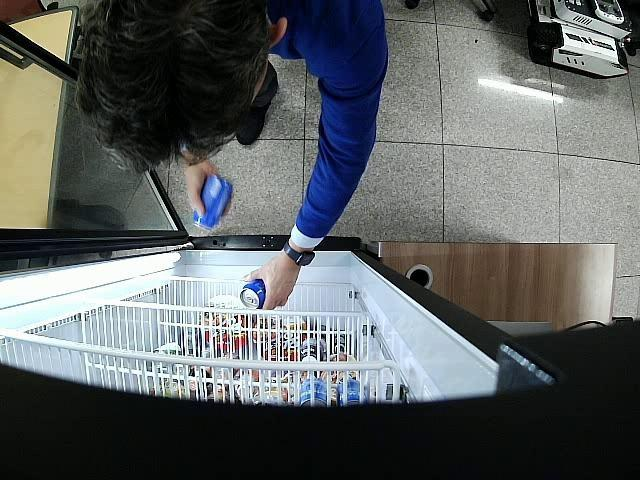13_pocariSweat: (192, 175, 232, 231), (240, 278, 266, 310)
